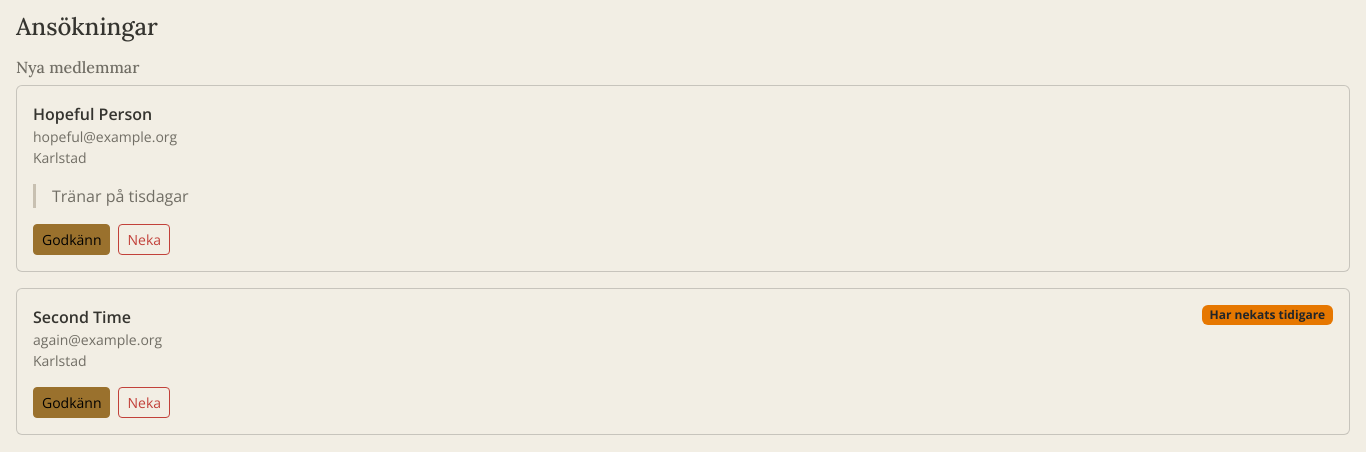
Test case: AdminRequests › approves in one click and drops the request from the list
Expected: the text "Hopeful Person" is shown, left=33, top=103, right=152, bottom=125
Step 1. Click the button "Godkänn" below "Tränar på tisdagar" → (72, 240), box left=33, top=224, right=110, bottom=255
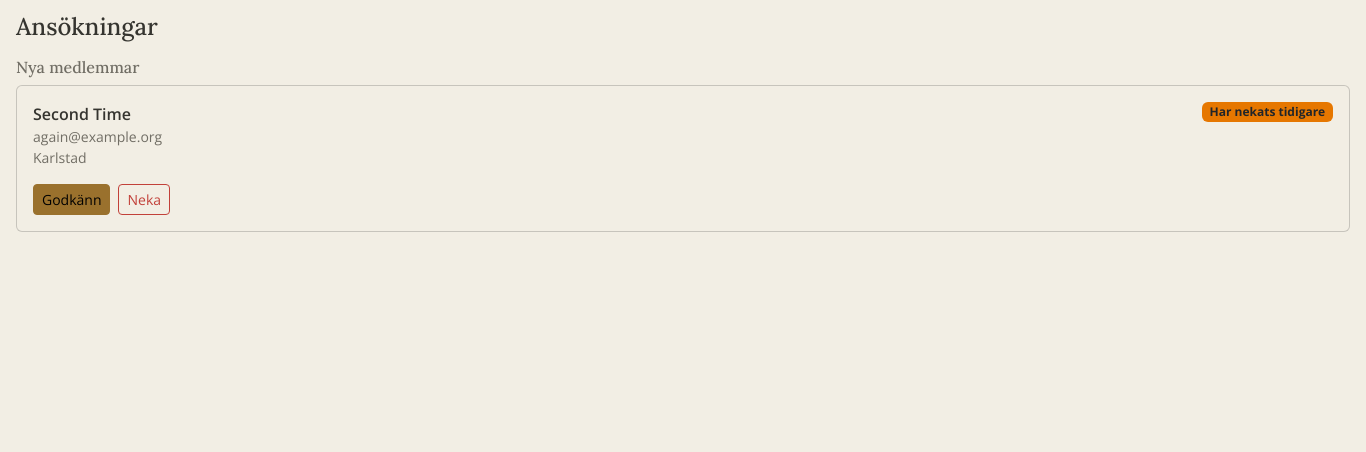
Expected: the text "Second Time" is shown, left=33, top=103, right=131, bottom=125
Expected: the text "Hopeful Person" is gone
